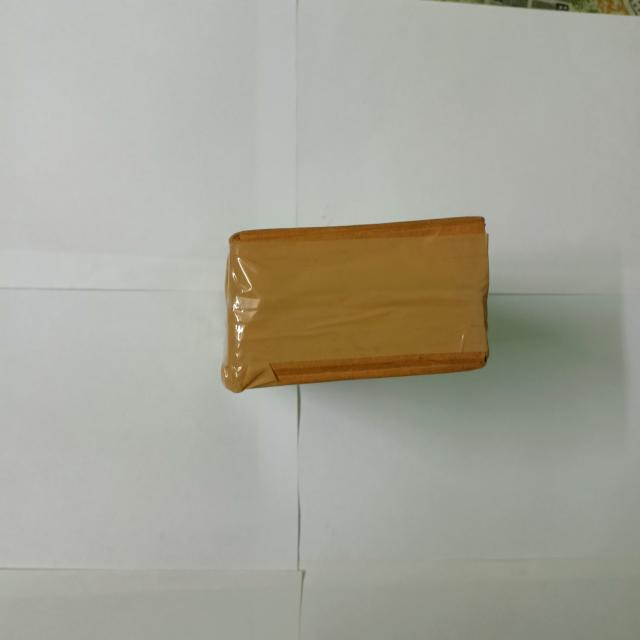box: (221, 217, 492, 397)
